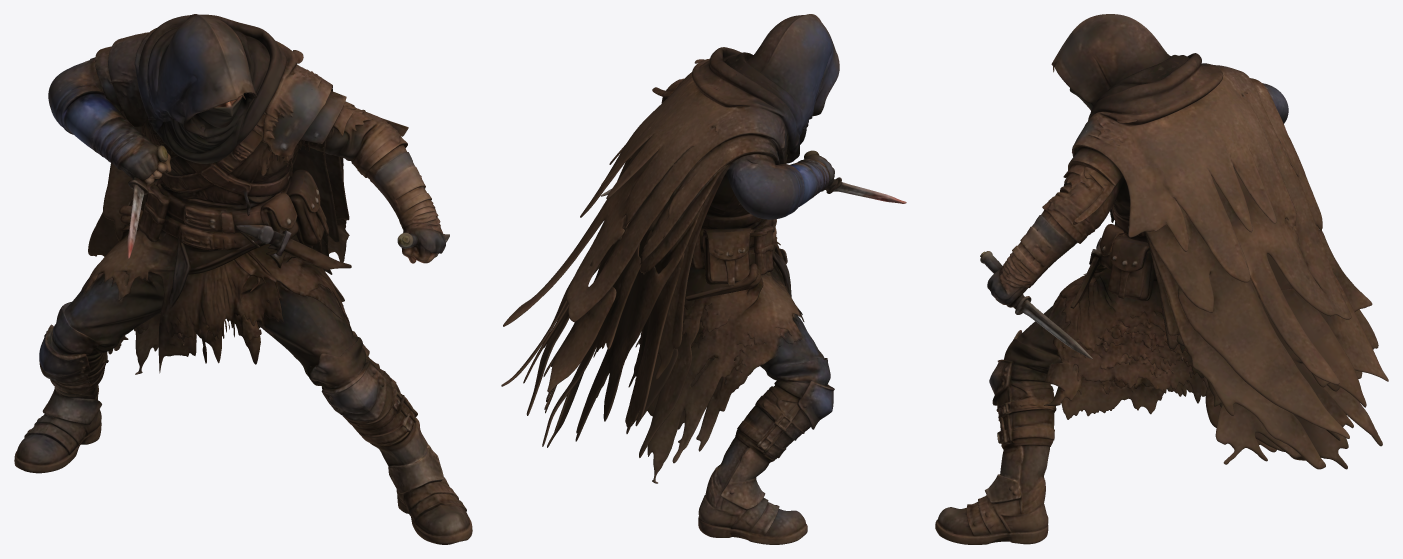
File: enemy_bandit_rogue_01.glb
The picture shows the model from 3 angles, left to right: view 1: azimuth 30°, elevation 25°; view 2: azimuth 150°, elevation 25°; view 3: azimuth 270°, elevation 25°; orthographic projection. The views are drawn at different scales.
Parts seen in each view (by area): view 1: material; view 2: material; view 3: material.
Boxes of the visible parts, x1,y1,x2,y2 form: material: (14, 14, 472, 544); material: (501, 14, 906, 544); material: (935, 14, 1388, 544).
Bounding box in the file's own units: 0.6023 × 0.8565 × 0.7831.
1 material, 1 textured.
